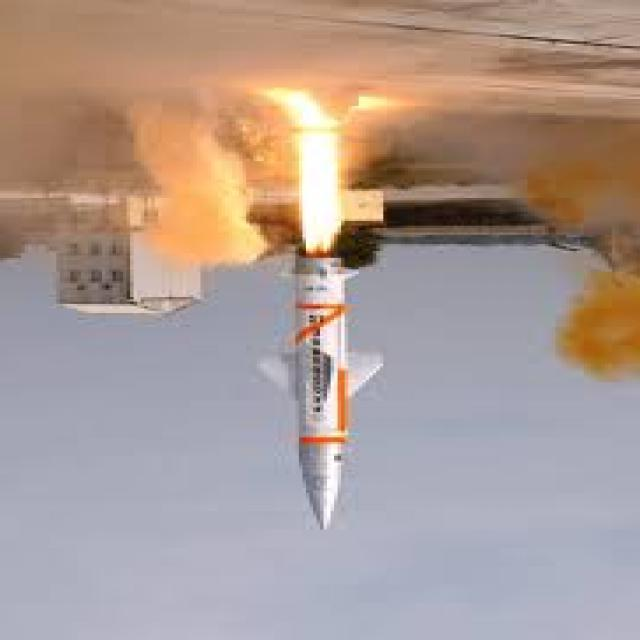missile: (288, 236, 351, 546)
